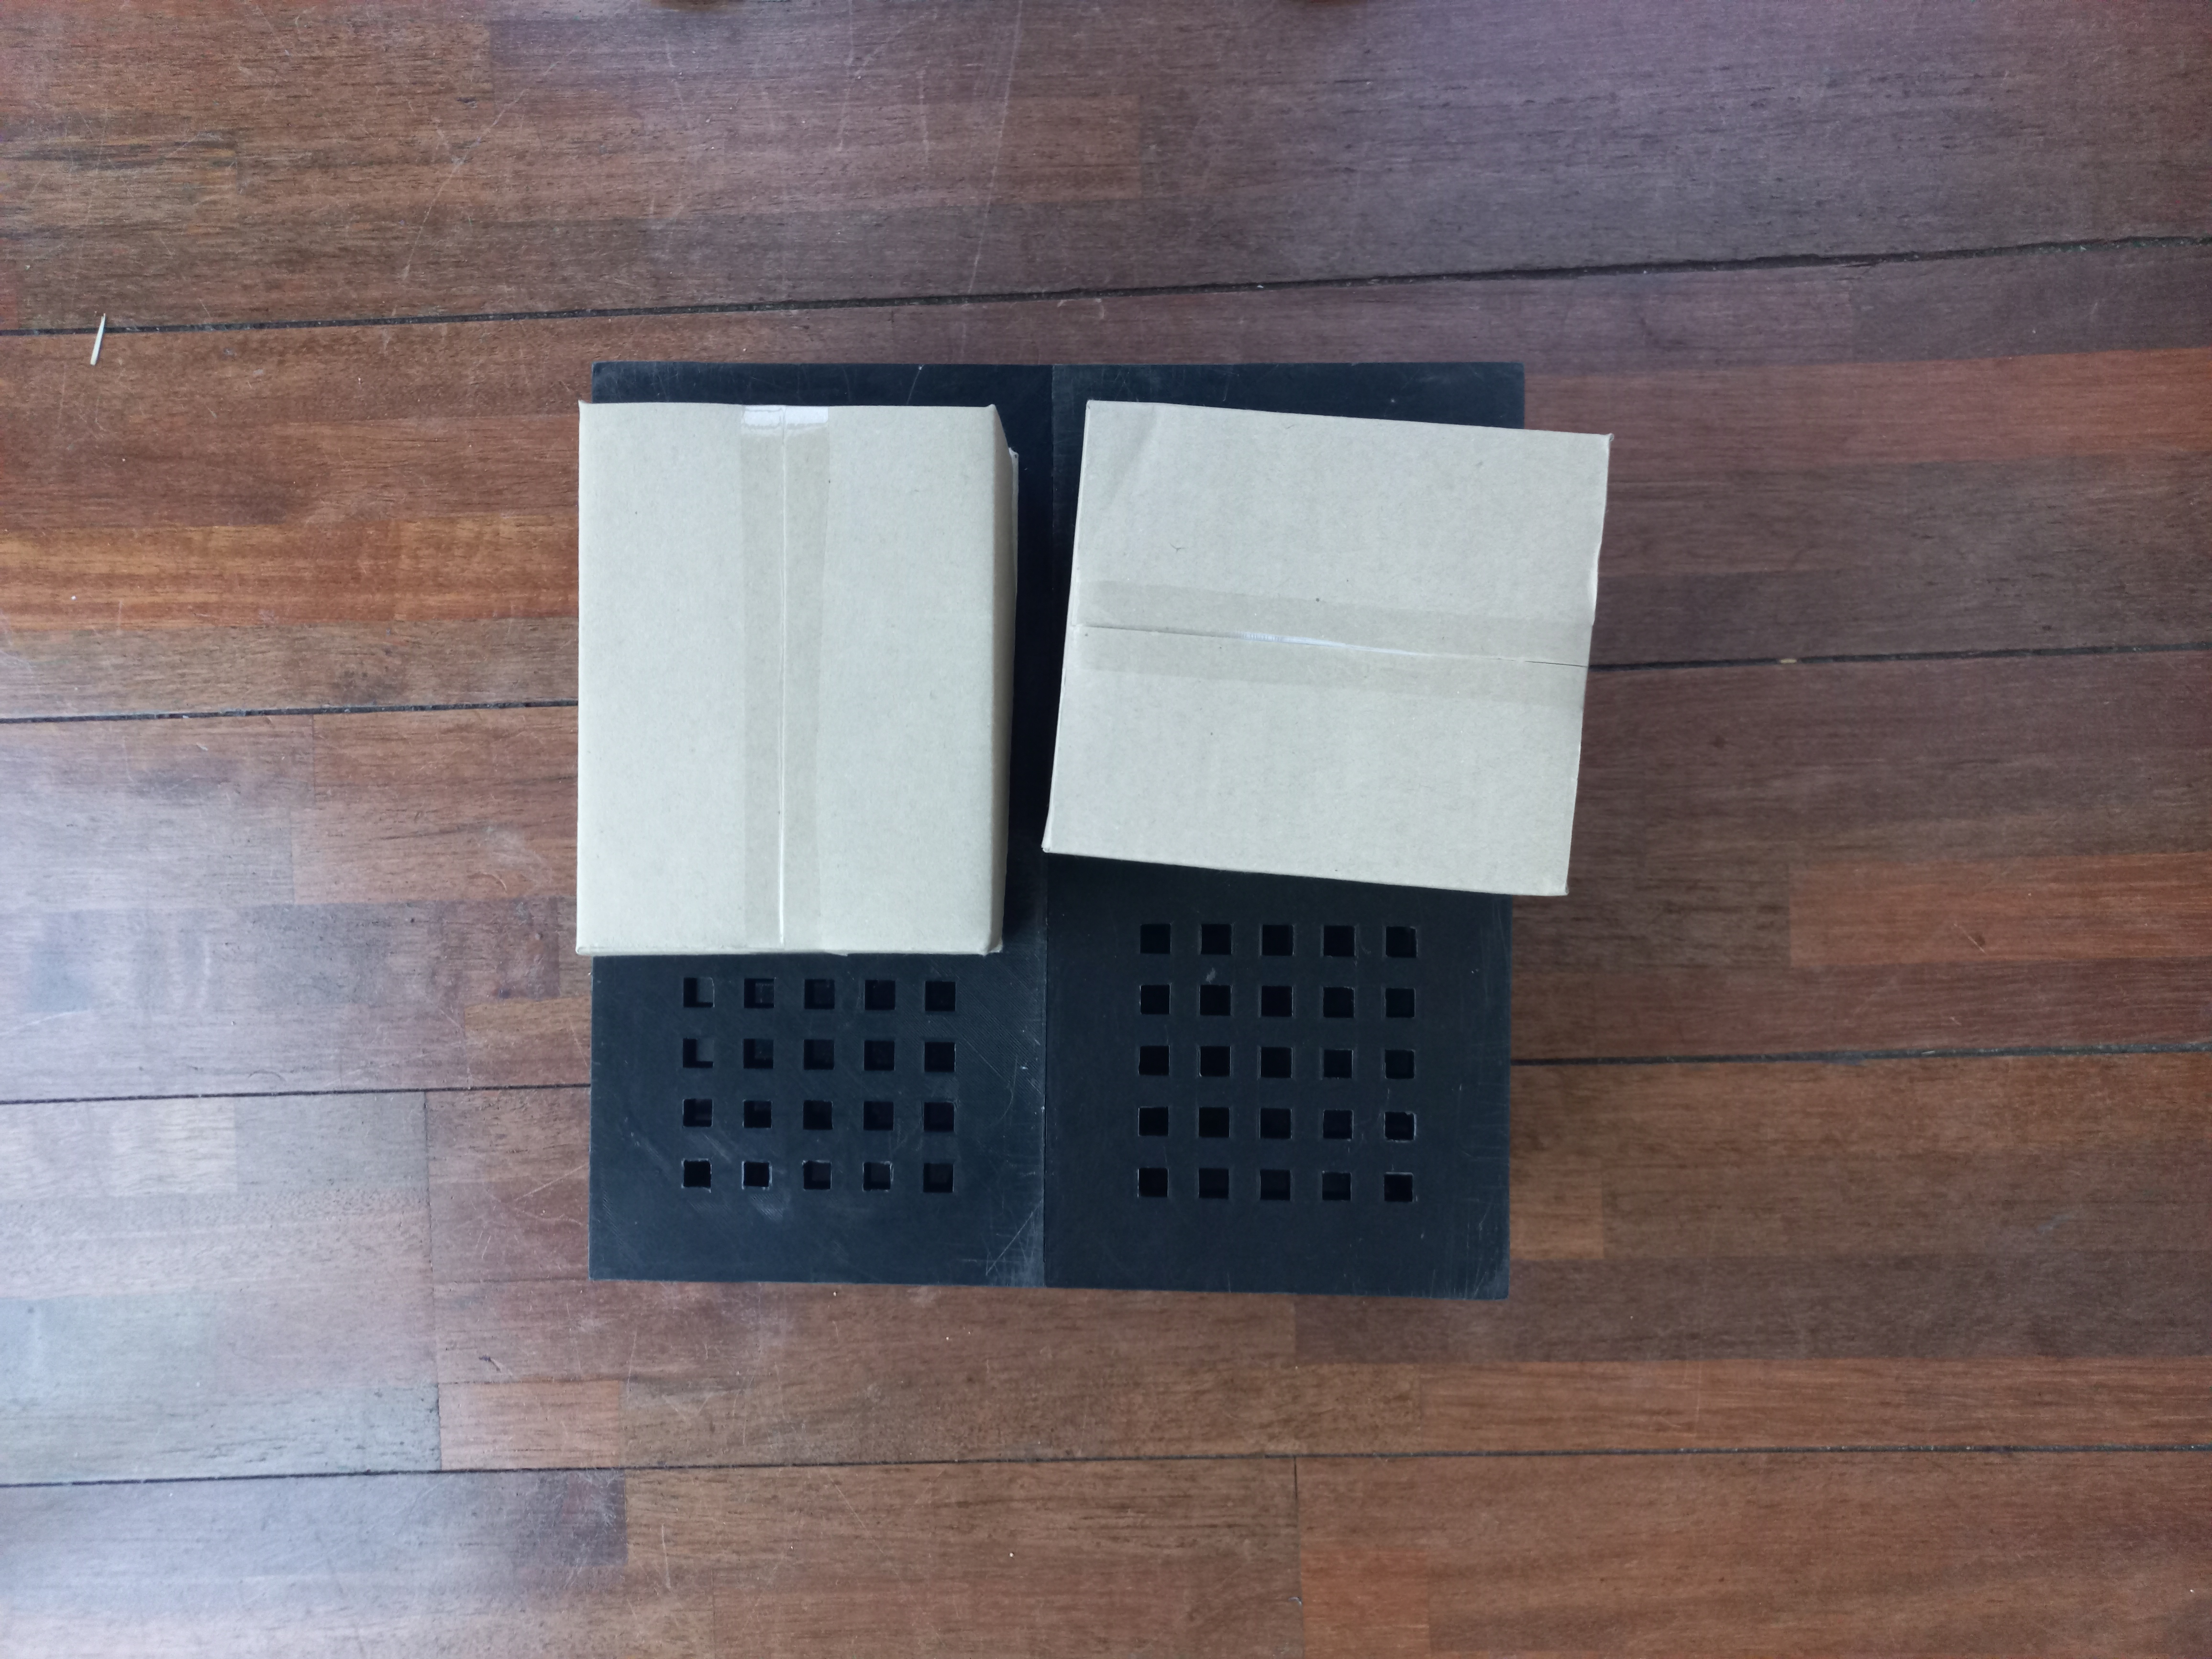box: (1047, 392, 1606, 899), (575, 397, 1010, 948)
